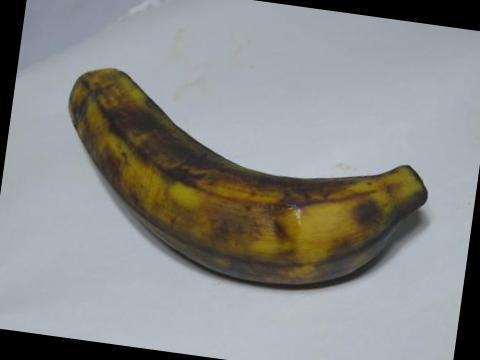overripe: (63, 55, 437, 302)
